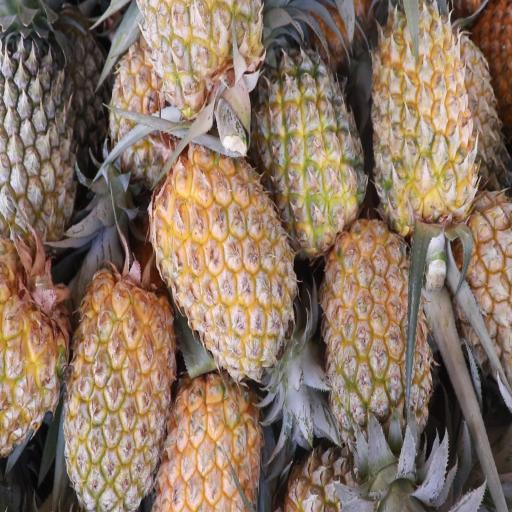------------------------------: (248, 48, 368, 272), (136, 2, 270, 174)
Pineapple - v8 v1: (148, 125, 299, 387), (316, 216, 434, 508), (60, 252, 176, 512), (368, 5, 480, 266), (148, 355, 263, 512), (0, 232, 78, 462), (447, 185, 512, 405)
